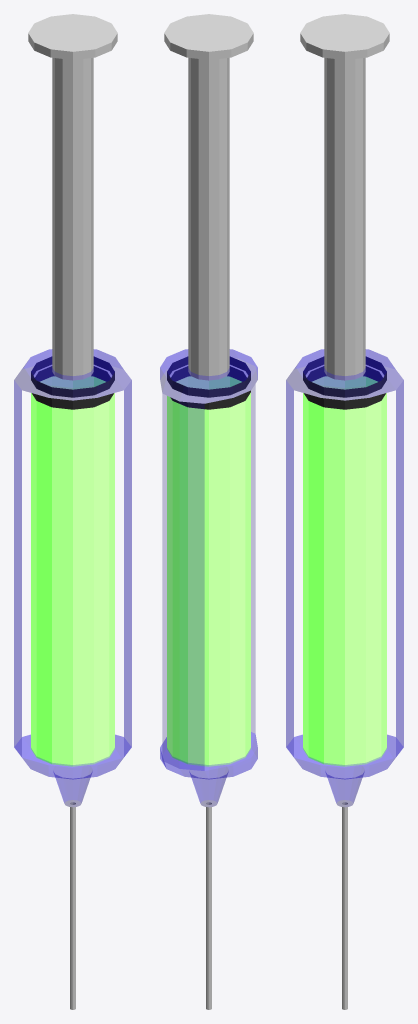
Rendered from syringe.glb.
3 views of the same model, side by side, from view 1: azimuth 90°, elevation 25°; view 2: azimuth 150°, elevation 25°; view 3: azimuth 270°, elevation 25° (orthographic).
Visible parts, largest first — view 1: Cylinder; view 2: Cylinder; view 3: Cylinder.
Part boxes in pixels (bbox=[...]): Cylinder: bbox=[14, 14, 131, 1009]; Cylinder: bbox=[160, 14, 257, 1009]; Cylinder: bbox=[286, 14, 403, 1009].
Bounding box in the file's own units: 0.0143 × 0.1574 × 0.0172.
